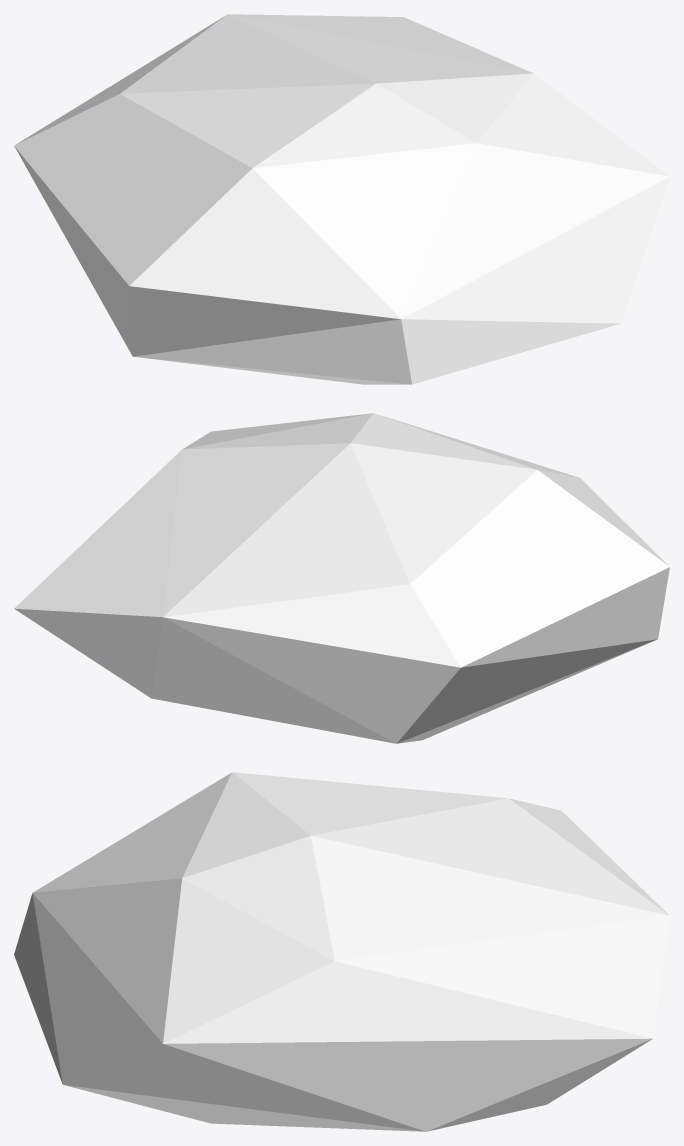
File: Rock_9.fbx
3 views of the same model, one above another, from view 1: azimuth 30°, elevation 25°; view 2: azimuth 150°, elevation 25°; view 3: azimuth 270°, elevation 25° (orthographic). The views are drawn at different scales.
Visible parts, largest first — view 1: M_Rock 9; view 2: M_Rock 9; view 3: M_Rock 9.
Part boxes in pixels (bbox=[...]): M_Rock 9: bbox=[14, 14, 669, 384]; M_Rock 9: bbox=[14, 413, 669, 743]; M_Rock 9: bbox=[14, 772, 669, 1131].
Bounding box in the file's own units: 0.1516 × 0.0721 × 0.1624.
Materials: 1 (1 with a texture image).
